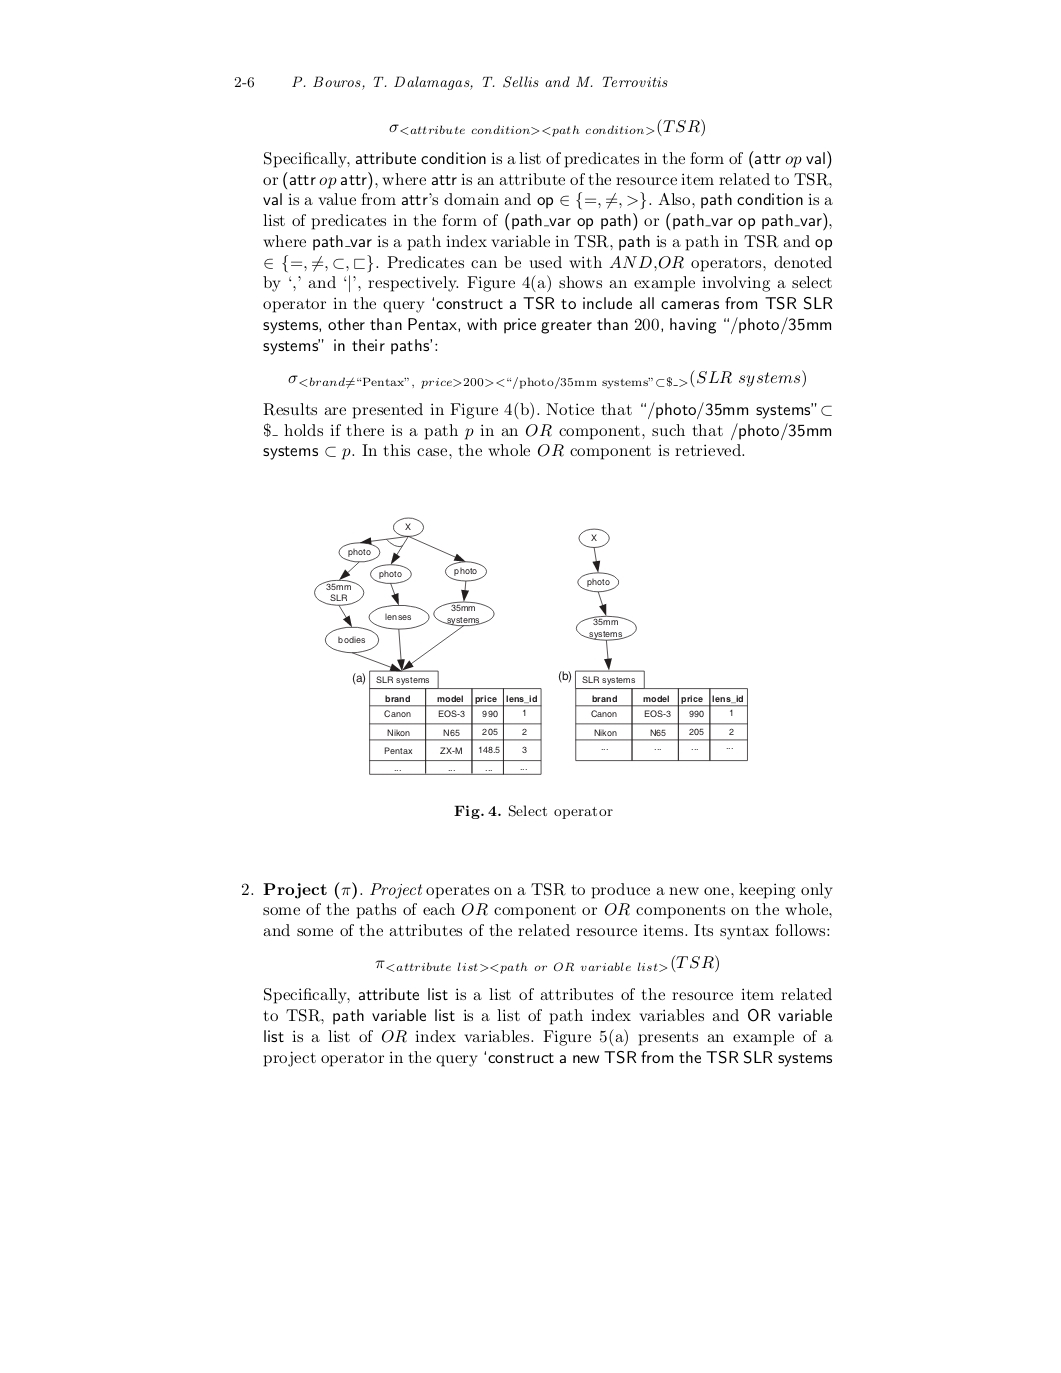figure: (314, 516, 541, 775), (558, 527, 747, 762)
